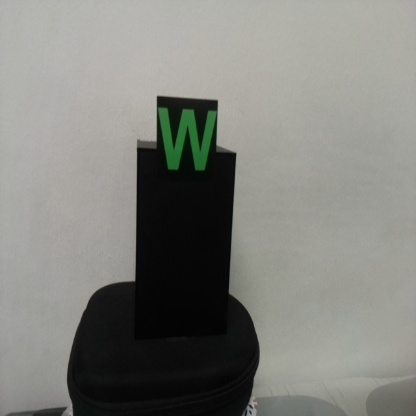id_12: (156, 97, 218, 185)
